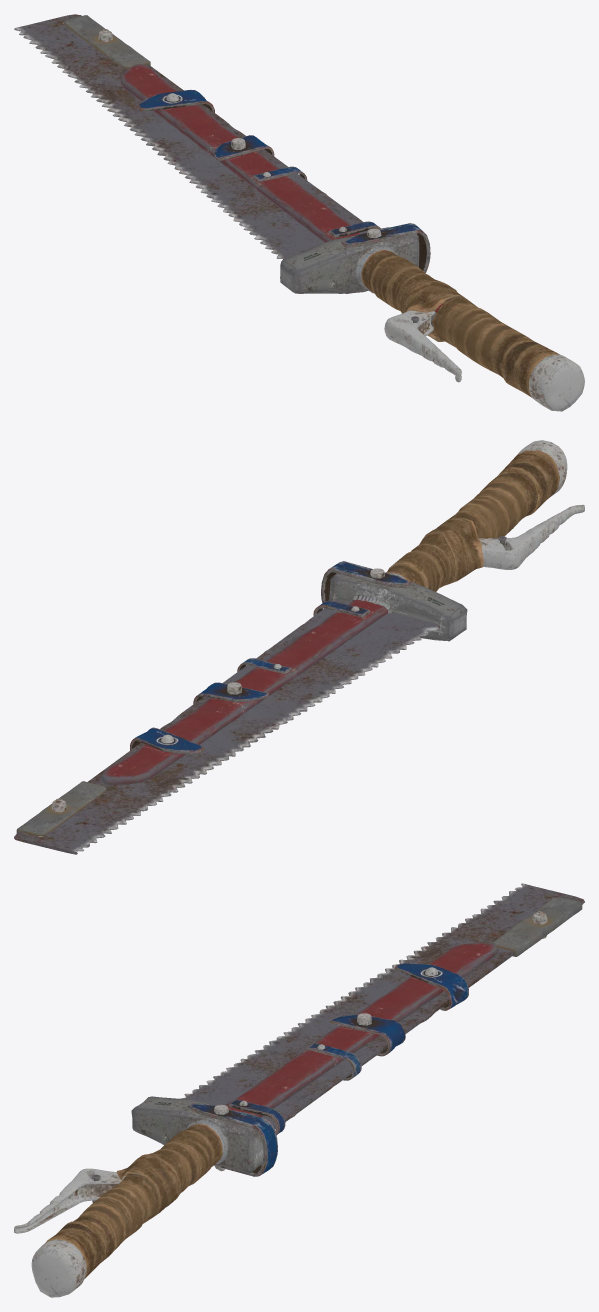
File: tool-salvagedSword.glb
The picture shows the model from 3 angles, top to bottom: view 1: azimuth 30°, elevation 25°; view 2: azimuth 150°, elevation 25°; view 3: azimuth 330°, elevation 25°; orthographic projection. The views are drawn at different scales.
Parts seen in each view (by area): view 1: grip_low, saw_low, grip_tape_low, rukoyatka_low, protivoves_low, skoba_low, skoba_low.004, skoba_low.001; view 2: saw_low, grip_low, grip_tape_low, rukoyatka_low, protivoves_low, skoba_low, skoba_low.004, skoba_low.001; view 3: grip_low, saw_low, grip_tape_low, rukoyatka_low, protivoves_low, skoba_low, skoba_low.004, skoba_low.001, skoba_low.003, skoba_low.002, Screws_low.
Part boxes in pixels (box(x1,y1,x2,y2)): grip_low: box(120, 64, 584, 411); saw_low: box(14, 14, 367, 258); grip_tape_low: box(361, 249, 559, 397); rukoyatka_low: box(384, 310, 461, 382); protivoves_low: box(63, 15, 150, 68); skoba_low: box(341, 223, 430, 293); skoba_low.004: box(137, 89, 214, 112); skoba_low.001: box(214, 135, 274, 161); saw_low: box(14, 600, 439, 854); grip_low: box(101, 440, 567, 784); grip_tape_low: box(386, 450, 559, 591); rukoyatka_low: box(479, 504, 584, 569); protivoves_low: box(16, 781, 106, 836); skoba_low: box(321, 561, 411, 602); skoba_low.004: box(130, 727, 204, 774); skoba_low.001: box(193, 682, 269, 703); grip_low: box(31, 943, 497, 1297); saw_low: box(180, 883, 584, 1129); grip_tape_low: box(45, 1124, 222, 1278); rukoyatka_low: box(14, 1168, 126, 1233); protivoves_low: box(492, 897, 582, 956); skoba_low: box(187, 1103, 277, 1176); skoba_low.004: box(394, 963, 468, 1010); skoba_low.001: box(329, 1014, 405, 1056); skoba_low.003: box(229, 1099, 285, 1135); skoba_low.002: box(306, 1042, 361, 1080); Screws_low: box(214, 911, 547, 1171).
Size of the model in its own units: 68.53 by 29.52 by 442.
Materials: 1 (1 with a texture image).
